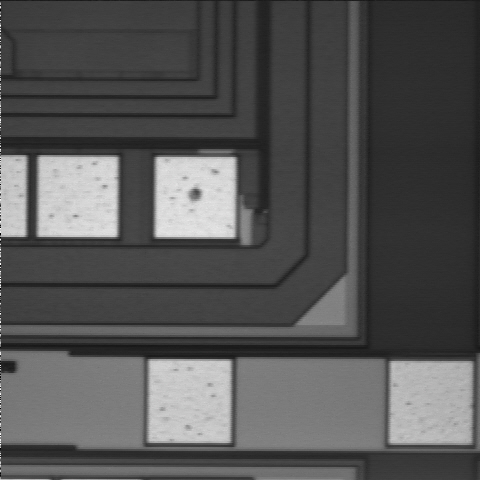pad: (149, 360, 231, 443), (390, 361, 471, 443), (38, 157, 118, 237), (155, 157, 235, 237)
